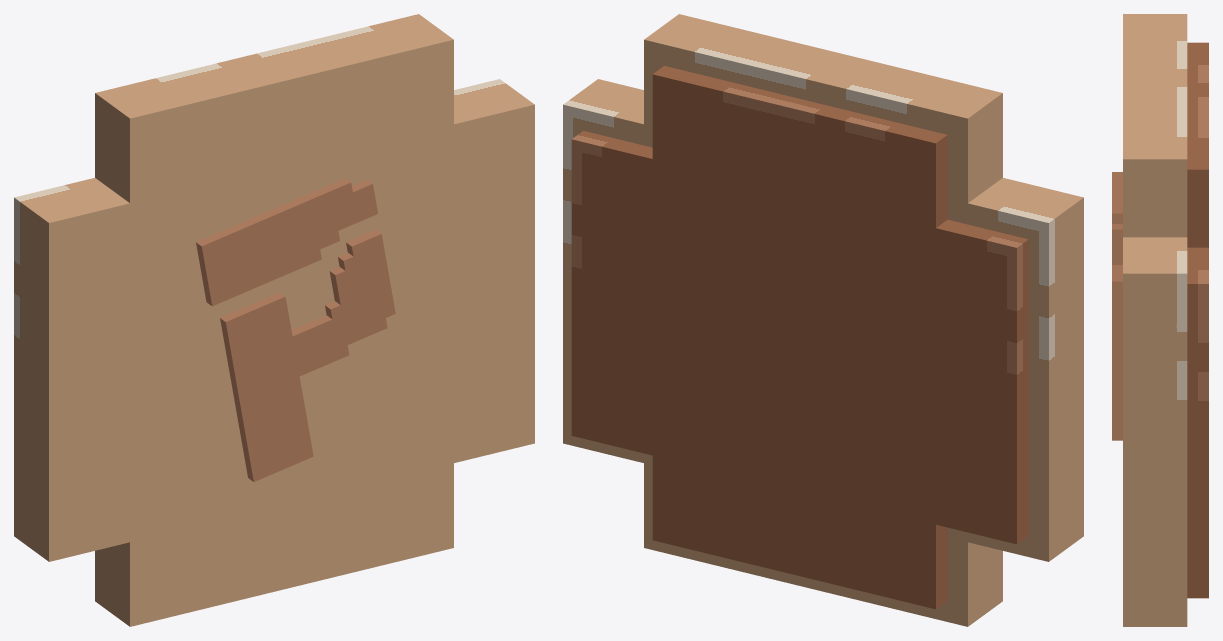
The model's file is background_e_bronze.gltf.
3 views of the same model, side by side, from view 1: azimuth 30°, elevation 25°; view 2: azimuth 150°, elevation 25°; view 3: azimuth 270°, elevation 25° (orthographic). The views are drawn at different scales.
Parts seen in each view (by area): view 1: Main1-Local, Main2-Local, BackP-Local; view 2: Main2-Local, Main1-Local; view 3: Main2-Local, Main1-Local, BackP-Local.
Boxes of the visible parts, x1,y1,x2,y2 form: Main1-Local: [95, 14, 453, 626]; Main2-Local: [14, 79, 534, 561]; BackP-Local: [196, 178, 395, 481]; Main2-Local: [563, 79, 1083, 561]; Main1-Local: [644, 14, 1002, 626]; Main2-Local: [1123, 237, 1208, 585]; Main1-Local: [1123, 14, 1208, 626]; BackP-Local: [1112, 172, 1122, 440].
Size of the model in its own units: 48 by 48 by 9.
Materials: 3 (3 with a texture image).
